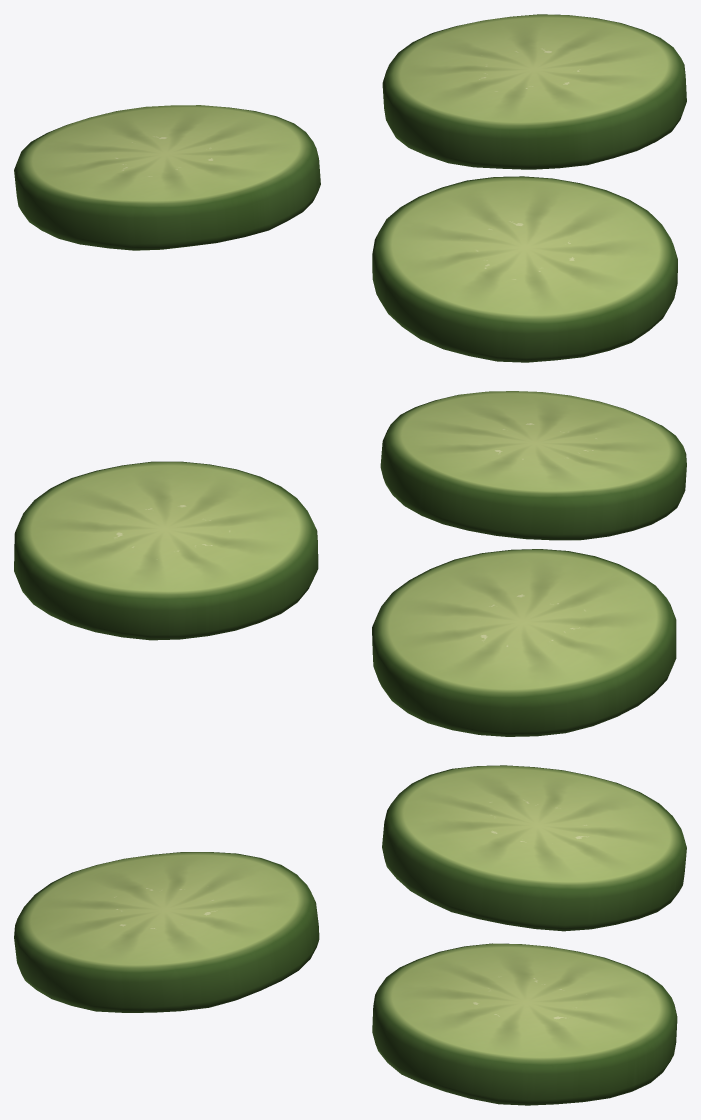
Rendered from pickle.glb.
3 renders of one model, top to bottom at view 1: azimuth 30°, elevation 25°; view 2: azimuth 150°, elevation 25°; view 3: azimuth 270°, elevation 25°, orthographic.
Parts seen in each view (by area): view 1: pickle; view 2: pickle; view 3: pickle.
Boxes of the visible parts, <box> form: pickle: <box>14,14,686,362</box>; pickle: <box>14,391,686,736</box>; pickle: <box>14,765,686,1105</box>.
Bounding box in the file's own units: 0.8081 × 0.0869 × 0.7506.
Materials: 1 (1 with a texture image).
